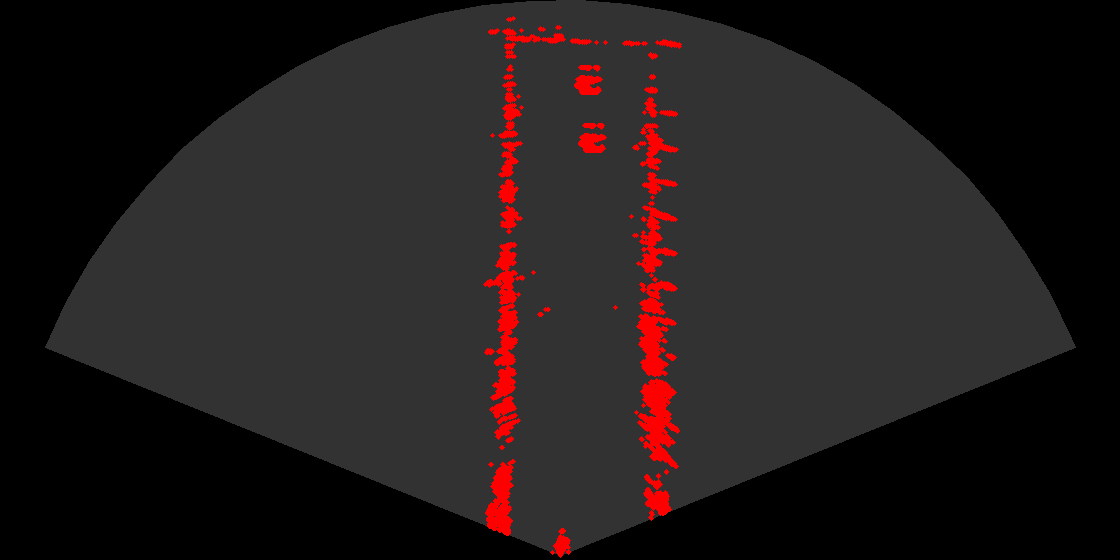ball: (558, 115, 618, 156), (554, 57, 614, 98)
